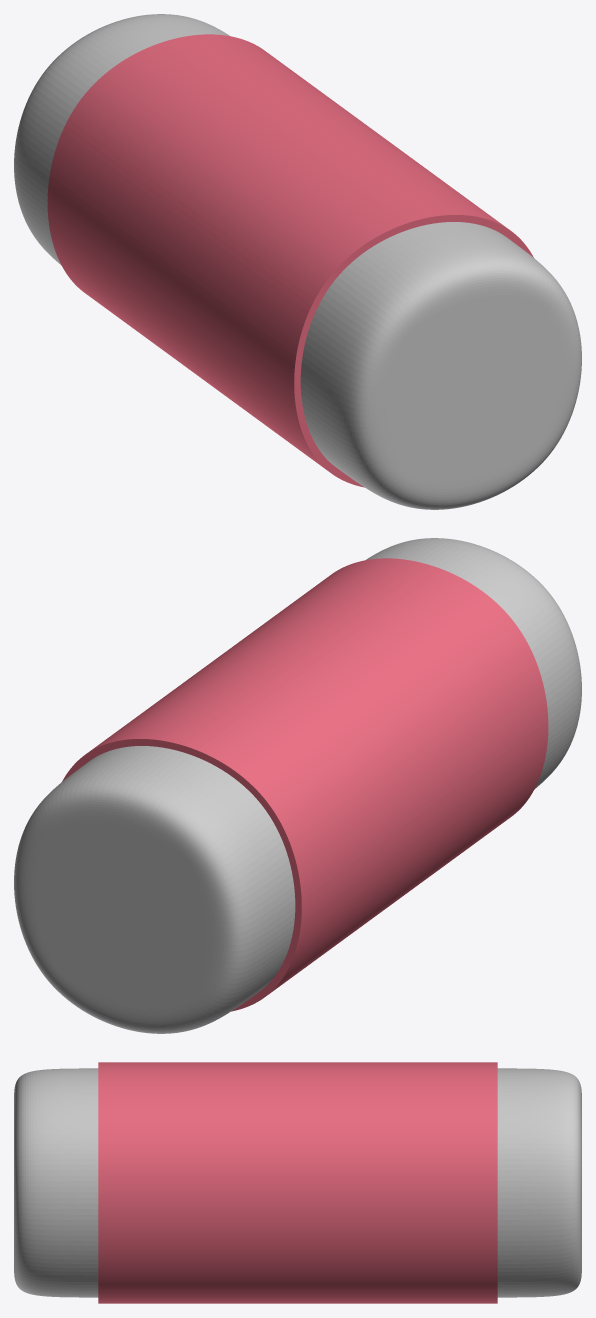
Rendered from Eraser_1.fbx.
The picture shows the model from 3 angles, top to bottom: view 1: azimuth 30°, elevation 25°; view 2: azimuth 150°, elevation 25°; view 3: azimuth 270°, elevation 25°; orthographic projection. The views are drawn at different scales.
Visible parts, largest first — view 1: Cube.001; view 2: Cube.001; view 3: Cube.001.
Boxes of the visible parts, bbox=[...] form: Cube.001: bbox=[14, 14, 581, 509]; Cube.001: bbox=[14, 538, 581, 1033]; Cube.001: bbox=[14, 1062, 581, 1303].
Bounding box in the file's own units: 193 × 193 × 462.
